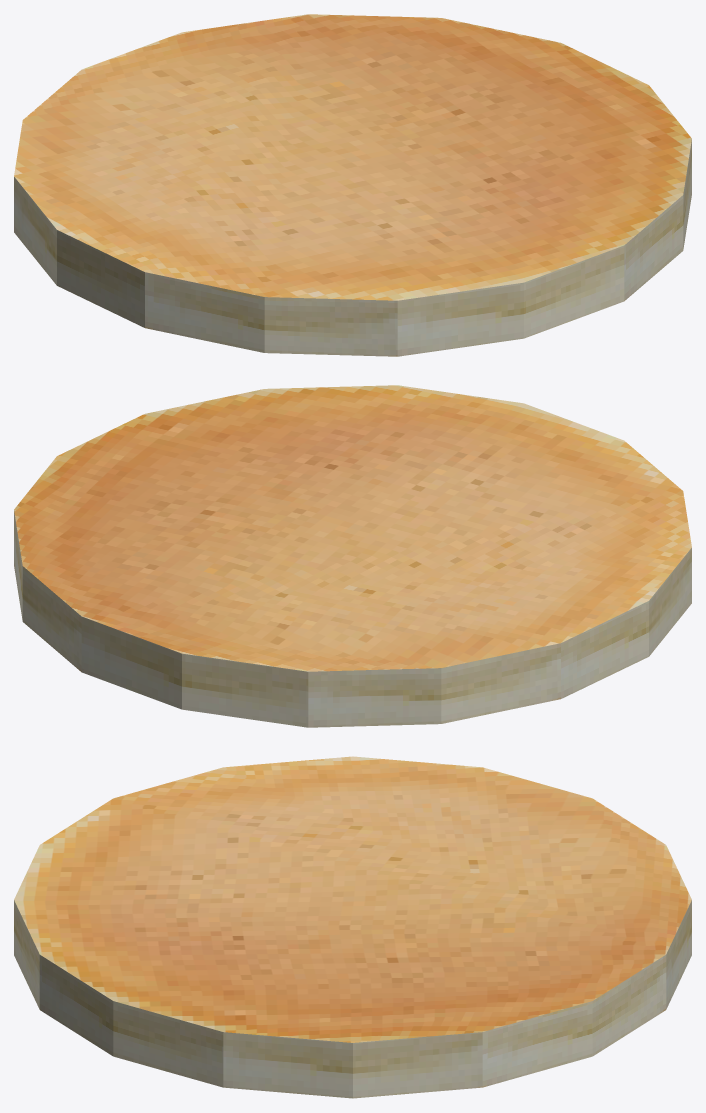
The model's file is pancake.fbx.
3 renders of one model, top to bottom at view 1: azimuth 30°, elevation 25°; view 2: azimuth 150°, elevation 25°; view 3: azimuth 270°, elevation 25°, orthographic.
Visible parts, largest first — view 1: Cylinder; view 2: Cylinder; view 3: Cylinder.
Boxes of the visible parts, x1,y1,x2,y2 form: Cylinder: (14, 14, 691, 356); Cylinder: (14, 385, 691, 727); Cylinder: (14, 756, 691, 1098).
Bounding box in the file's own units: 6660 × 602 × 6660.
2 materials, 2 textured.
